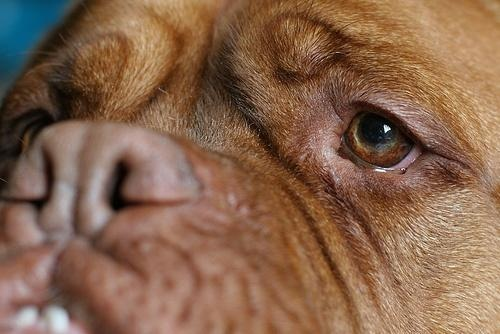dog: (2, 2, 500, 333)
